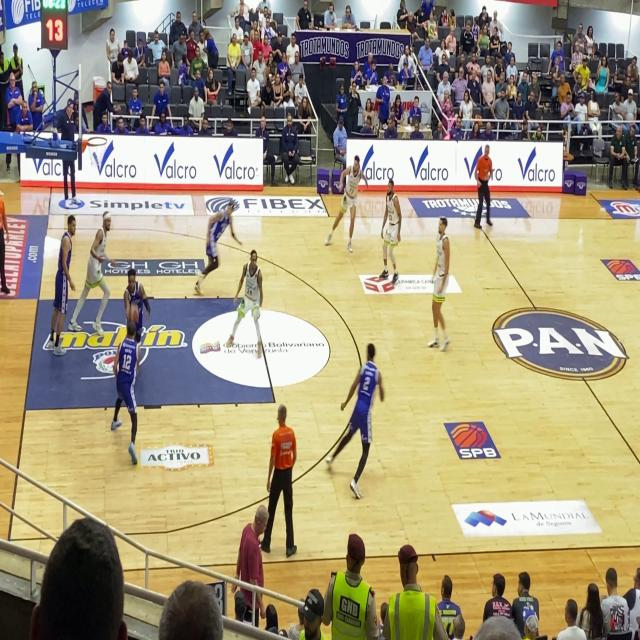Ball: (122, 304, 144, 324)
referee: (463, 128, 502, 228), (267, 394, 300, 508)
team1: (78, 208, 120, 339), (418, 205, 455, 351), (231, 234, 265, 373), (337, 144, 366, 249), (381, 166, 405, 292)
team2: (340, 326, 383, 504), (188, 186, 244, 310), (42, 197, 80, 358), (115, 320, 148, 466)
ubasket: (82, 134, 110, 154)
